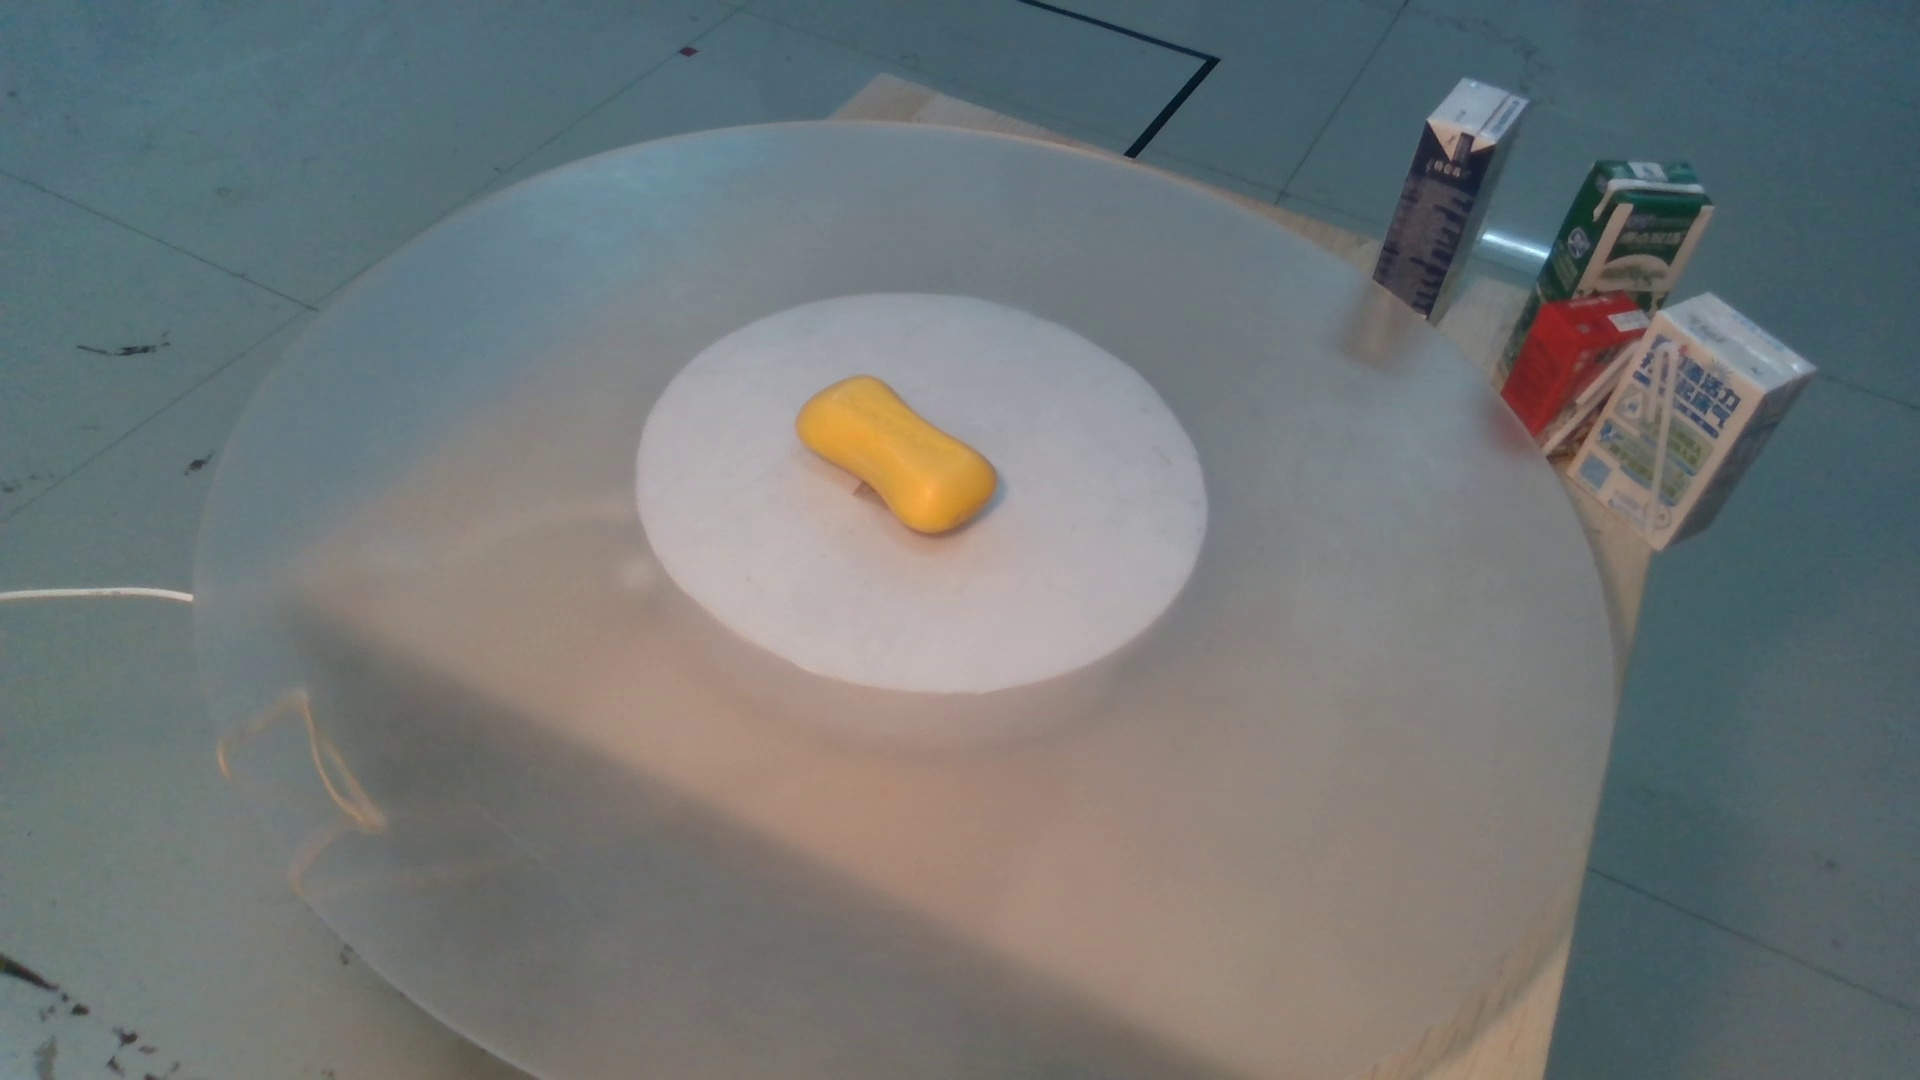CA003_1: (793, 357, 1009, 531)
